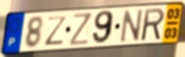8: (24, 15, 45, 50)
9: (92, 9, 117, 46)
N: (119, 8, 144, 45)
R: (140, 7, 166, 43)
Z: (69, 11, 93, 47), (44, 15, 69, 47)
